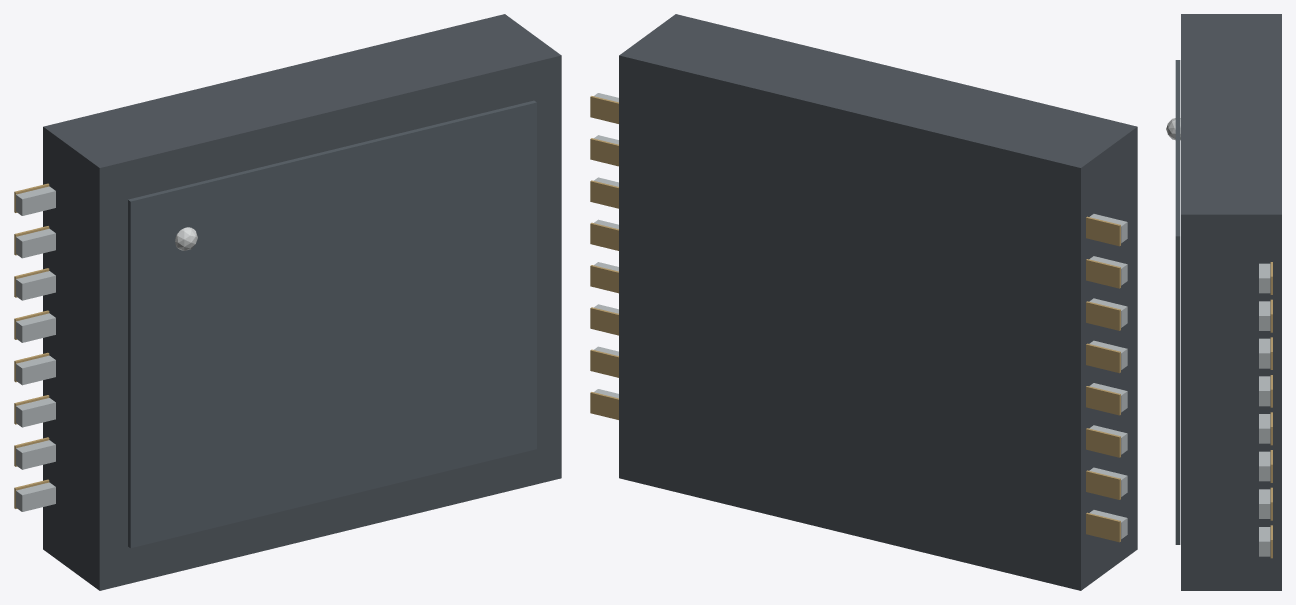
3 renders of one model, left to right at view 1: azimuth 30°, elevation 25°; view 2: azimuth 150°, elevation 25°; view 3: azimuth 270°, elevation 25°, orthographic. The views are drawn at different scales.
Parts seen in each view (by area): view 1: PART_001_Ceramic_Black, PART_000_IC_Epoxy, PART_003_Lead_Tin, PART_007_Lead_Tin, PART_027_Lead_Tin, PART_015_Lead_Tin, PART_023_Lead_Tin, PART_031_Lead_Tin, PART_011_Lead_Tin, PART_019_Lead_Tin; view 2: PART_000_IC_Epoxy, PART_004_Copper_Gold, PART_020_Copper_Gold, PART_032_Copper_Gold, PART_008_Copper_Gold, PART_012_Copper_Gold, PART_016_Copper_Gold, PART_024_Copper_Gold, PART_028_Copper_Gold; view 3: PART_000_IC_Epoxy, PART_001_Ceramic_Black, PART_021_Lead_Tin, PART_025_Lead_Tin, PART_013_Lead_Tin, PART_033_Lead_Tin, PART_005_Lead_Tin, PART_009_Lead_Tin, PART_017_Lead_Tin, PART_029_Lead_Tin, PART_002_Silkscreen.
Part boxes in pixels (<box>): PART_001_Ceramic_Black: <box>128,100,536,548</box>; PART_000_IC_Epoxy: <box>43,14,561,590</box>; PART_003_Lead_Tin: <box>16,482,55,511</box>; PART_007_Lead_Tin: <box>16,440,55,469</box>; PART_027_Lead_Tin: <box>16,228,55,258</box>; PART_015_Lead_Tin: <box>16,355,55,385</box>; PART_023_Lead_Tin: <box>16,271,55,300</box>; PART_031_Lead_Tin: <box>16,186,55,215</box>; PART_011_Lead_Tin: <box>16,398,55,427</box>; PART_019_Lead_Tin: <box>16,313,55,342</box>; PART_000_IC_Epoxy: <box>619,14,1137,590</box>; PART_004_Copper_Gold: <box>1086,512,1120,542</box>; PART_020_Copper_Gold: <box>1086,343,1120,373</box>; PART_032_Copper_Gold: <box>1086,216,1120,246</box>; PART_008_Copper_Gold: <box>1086,470,1120,499</box>; PART_012_Copper_Gold: <box>1086,428,1120,457</box>; PART_016_Copper_Gold: <box>1086,386,1120,415</box>; PART_024_Copper_Gold: <box>1086,301,1120,330</box>; PART_028_Copper_Gold: <box>1086,259,1120,288</box>; PART_000_IC_Epoxy: <box>1181,14,1281,590</box>; PART_001_Ceramic_Black: <box>1175,60,1180,544</box>; PART_021_Lead_Tin: <box>1259,376,1270,406</box>; PART_025_Lead_Tin: <box>1259,338,1270,368</box>; PART_013_Lead_Tin: <box>1259,451,1270,481</box>; PART_033_Lead_Tin: <box>1259,263,1270,293</box>; PART_005_Lead_Tin: <box>1259,527,1270,556</box>; PART_009_Lead_Tin: <box>1259,489,1270,518</box>; PART_017_Lead_Tin: <box>1259,414,1270,443</box>; PART_029_Lead_Tin: <box>1259,301,1270,330</box>; PART_002_Silkscreen: <box>1166,118,1180,140</box>.
Size of the model in its own units: 0.00917 by 0.007 by 0.00195.
